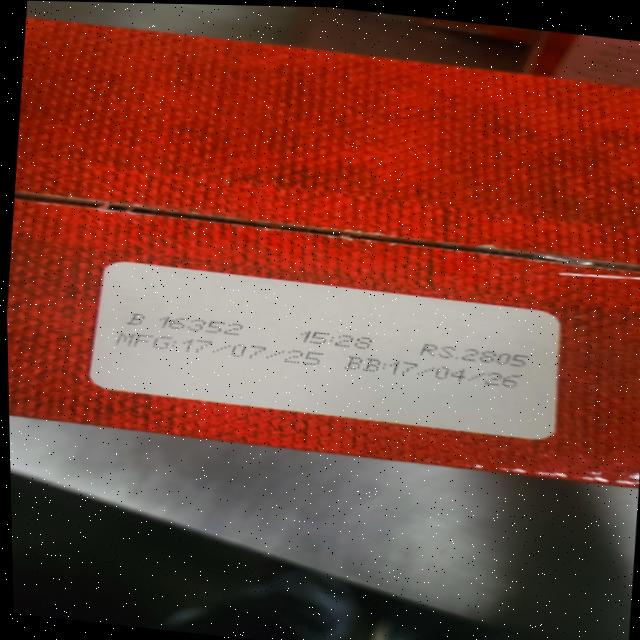BB: (344, 354, 524, 390)
Batch: (122, 310, 248, 337)
MFG: (118, 329, 327, 369)
RS: (418, 342, 531, 368)
TimeStamp: (299, 328, 377, 350)
